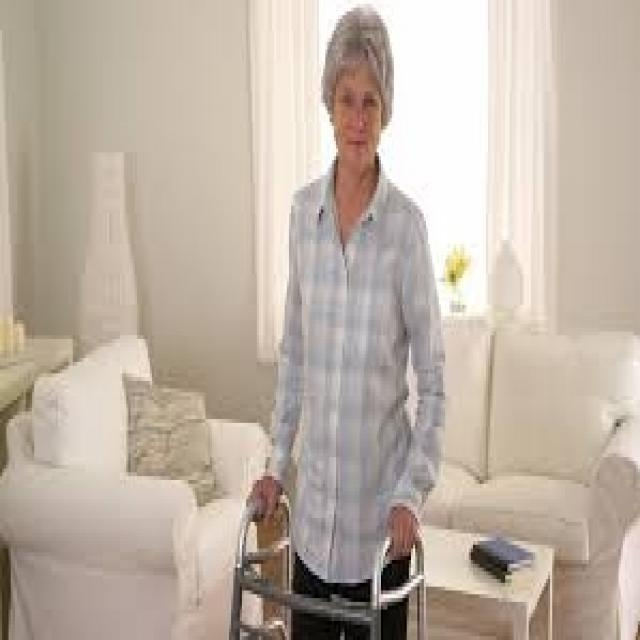walking: (229, 13, 449, 638)
